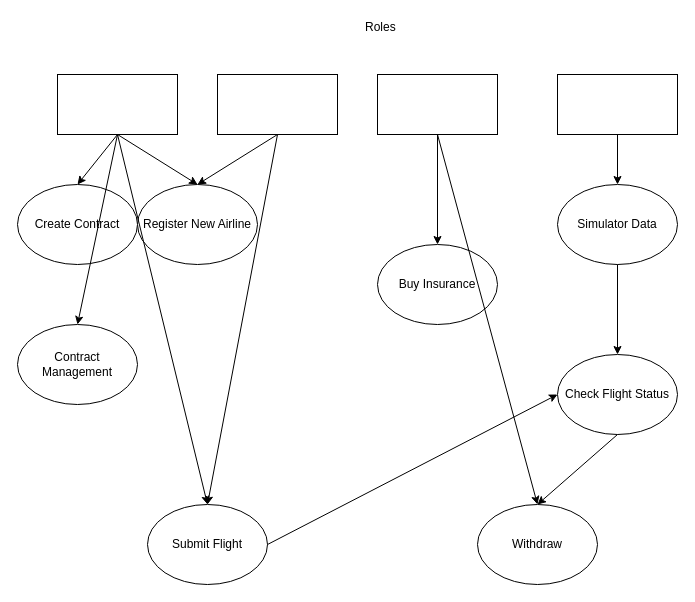
This 695x602 diagram has some shape labels left out. Here are the shapes that lost their labels. From the top down, the box of each, then its label:
(56, 74, 178, 134): Contract Administrator
(216, 74, 338, 134): Airline
(376, 74, 498, 134): Passenger
(556, 74, 678, 134): Oracle
